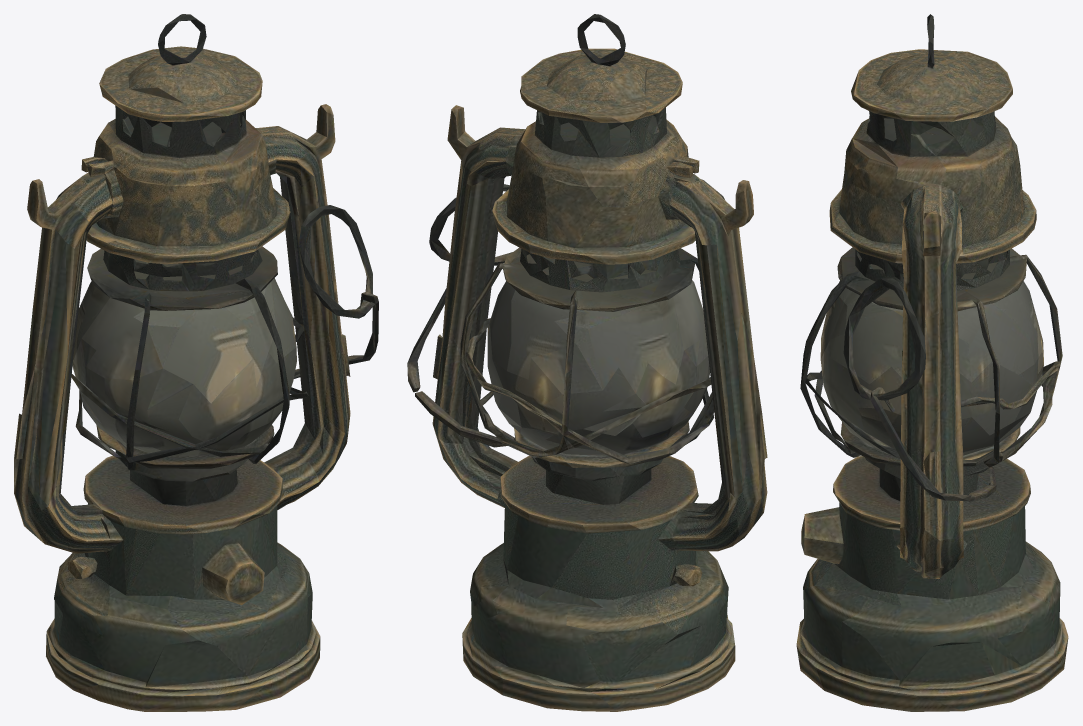
The model's file is fp_lantern.glb.
3 renders of one model, left to right at view 1: azimuth 30°, elevation 25°; view 2: azimuth 150°, elevation 25°; view 3: azimuth 270°, elevation 25°, orthographic.
Bounding box in the file's own units: 1.1 × 1.9 × 0.7324.
Materials: 1 (1 with a texture image).
